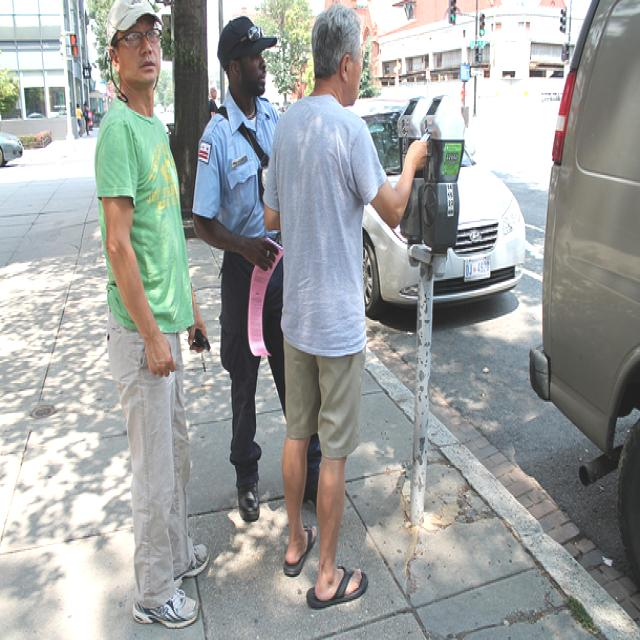Vehicle: (533, 0, 640, 637), (530, 0, 640, 607), (346, 101, 526, 322), (0, 129, 23, 169)
